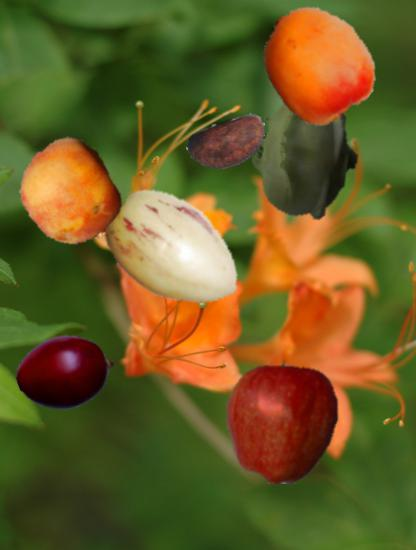Apple: (220, 359, 345, 484)
Apricot: (258, 6, 378, 126)
Chestnut: (187, 103, 269, 185)
Kohlrabi: (243, 96, 367, 220)
Peach: (19, 140, 125, 246)
Pepino: (102, 178, 248, 324)
Tamarillo: (17, 323, 116, 422)
